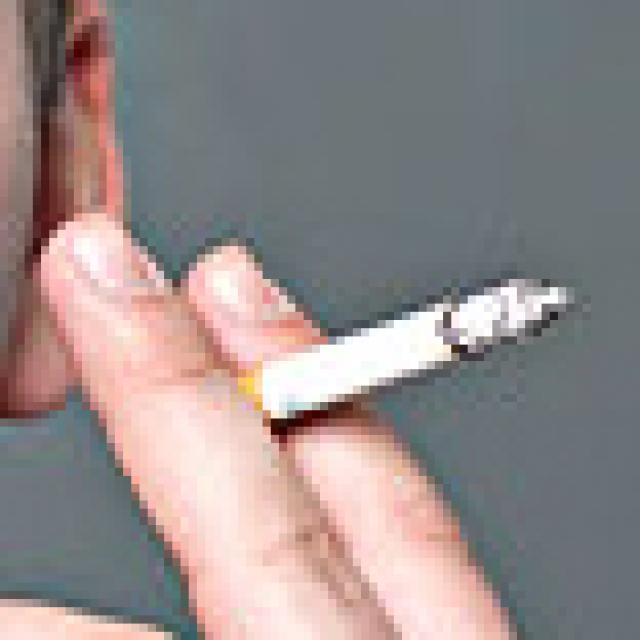smoking: (225, 274, 575, 429)
